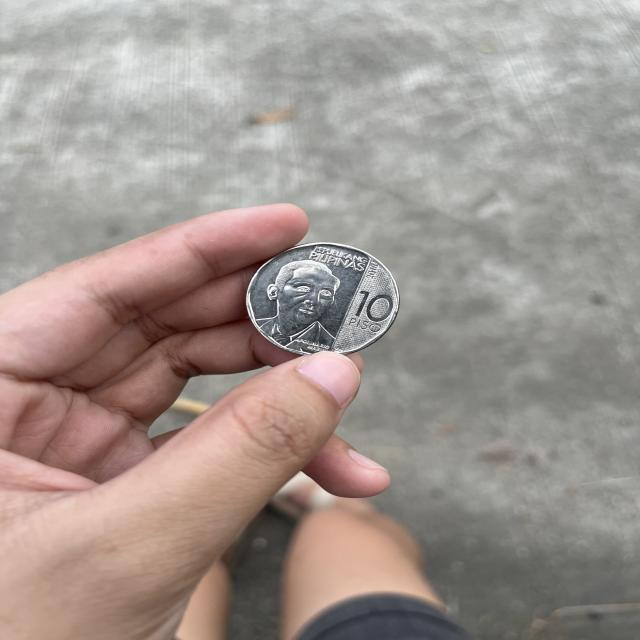10_New_Front: (342, 280, 406, 344)
